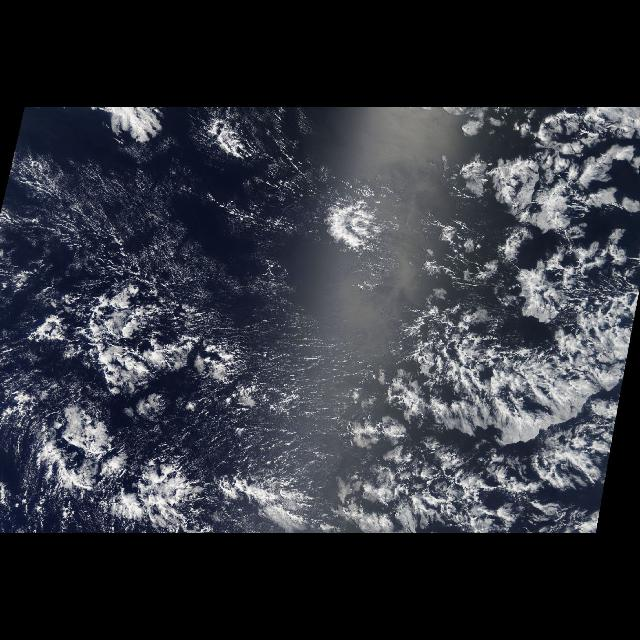Fish: (381, 305, 639, 431)
Sugar: (8, 143, 432, 481)
